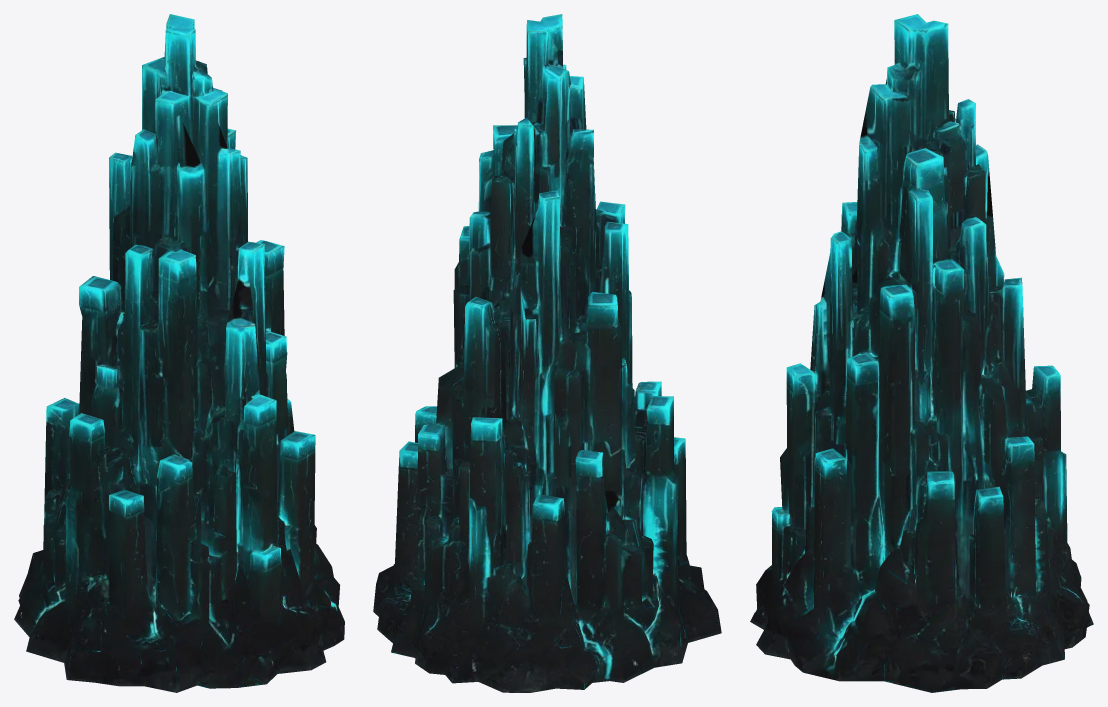
Rendered from crystal-spire-cyan.glb.
3 views of the same model, side by side, from view 1: azimuth 30°, elevation 25°; view 2: azimuth 150°, elevation 25°; view 3: azimuth 270°, elevation 25° (orthographic).
Parts seen in each view (by area): view 1: Mesh1.0; view 2: Mesh1.0; view 3: Mesh1.0.
Boxes of the visible parts, x1,y1,x2,y2 form: Mesh1.0: (14, 14, 344, 692); Mesh1.0: (373, 14, 721, 692); Mesh1.0: (750, 14, 1093, 692).
Size of the model in its own units: 0.9808 by 1.91 by 0.9929.
Materials: 1 (1 with a texture image).
